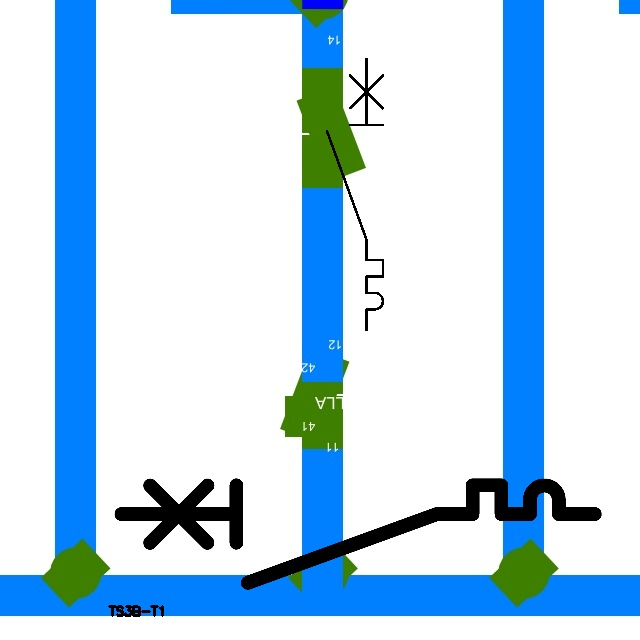interruptor_termomagnetico: (109, 473, 607, 595), (320, 52, 390, 337)
